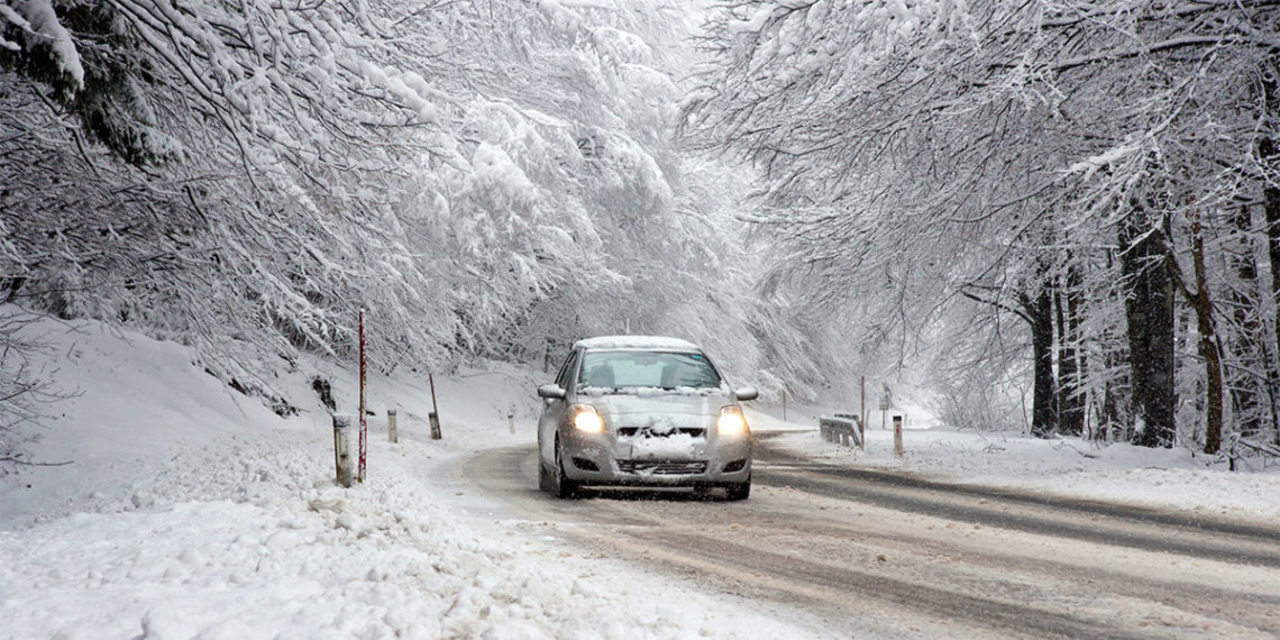car: (533, 336, 755, 503)
